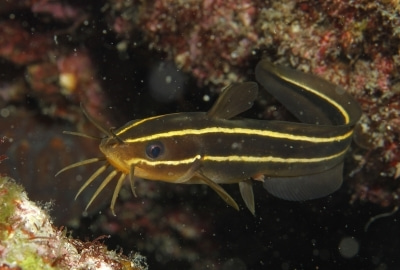gonzui: (73, 60, 383, 204)
